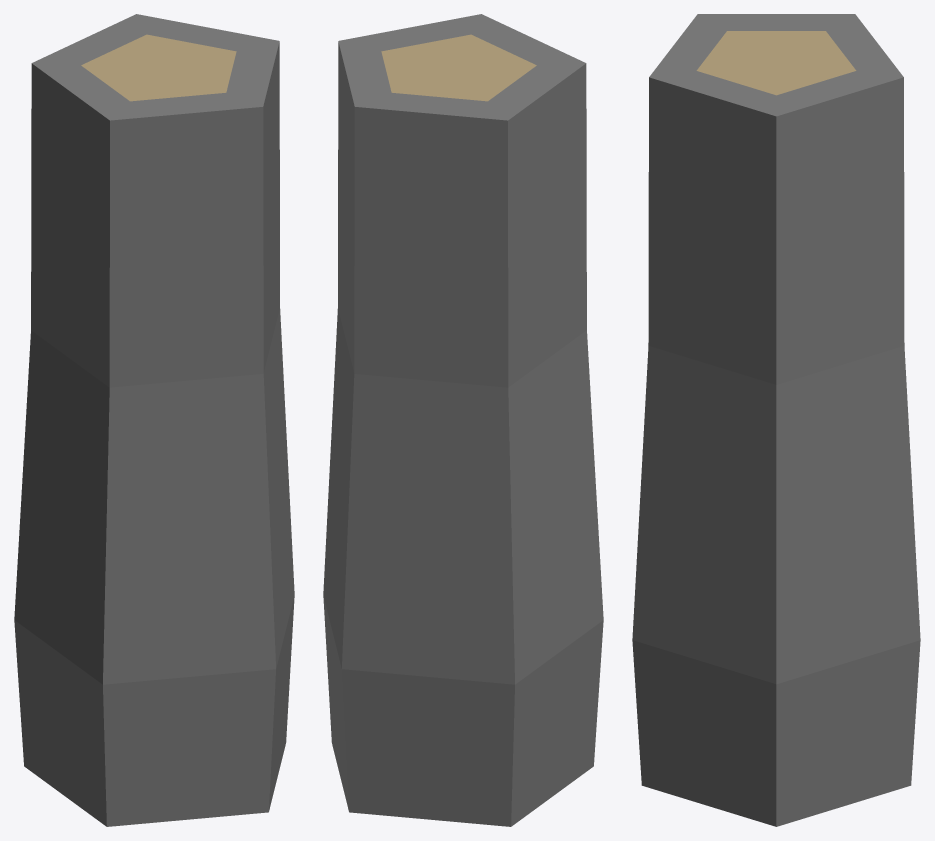
The model's file is Pillar_Penta_3.fbx.
3 views of the same model, side by side, from view 1: azimuth 30°, elevation 25°; view 2: azimuth 150°, elevation 25°; view 3: azimuth 270°, elevation 25° (orthographic).
Parts seen in each view (by area): view 1: Cylinder003; view 2: Cylinder003; view 3: Cylinder003.
Boxes of the visible parts, <box> form: Cylinder003: <box>14,14,294,826</box>; Cylinder003: <box>323,14,603,826</box>; Cylinder003: <box>632,14,920,826</box>.
Size of the model in its own units: 17.56 by 50 by 18.46.
